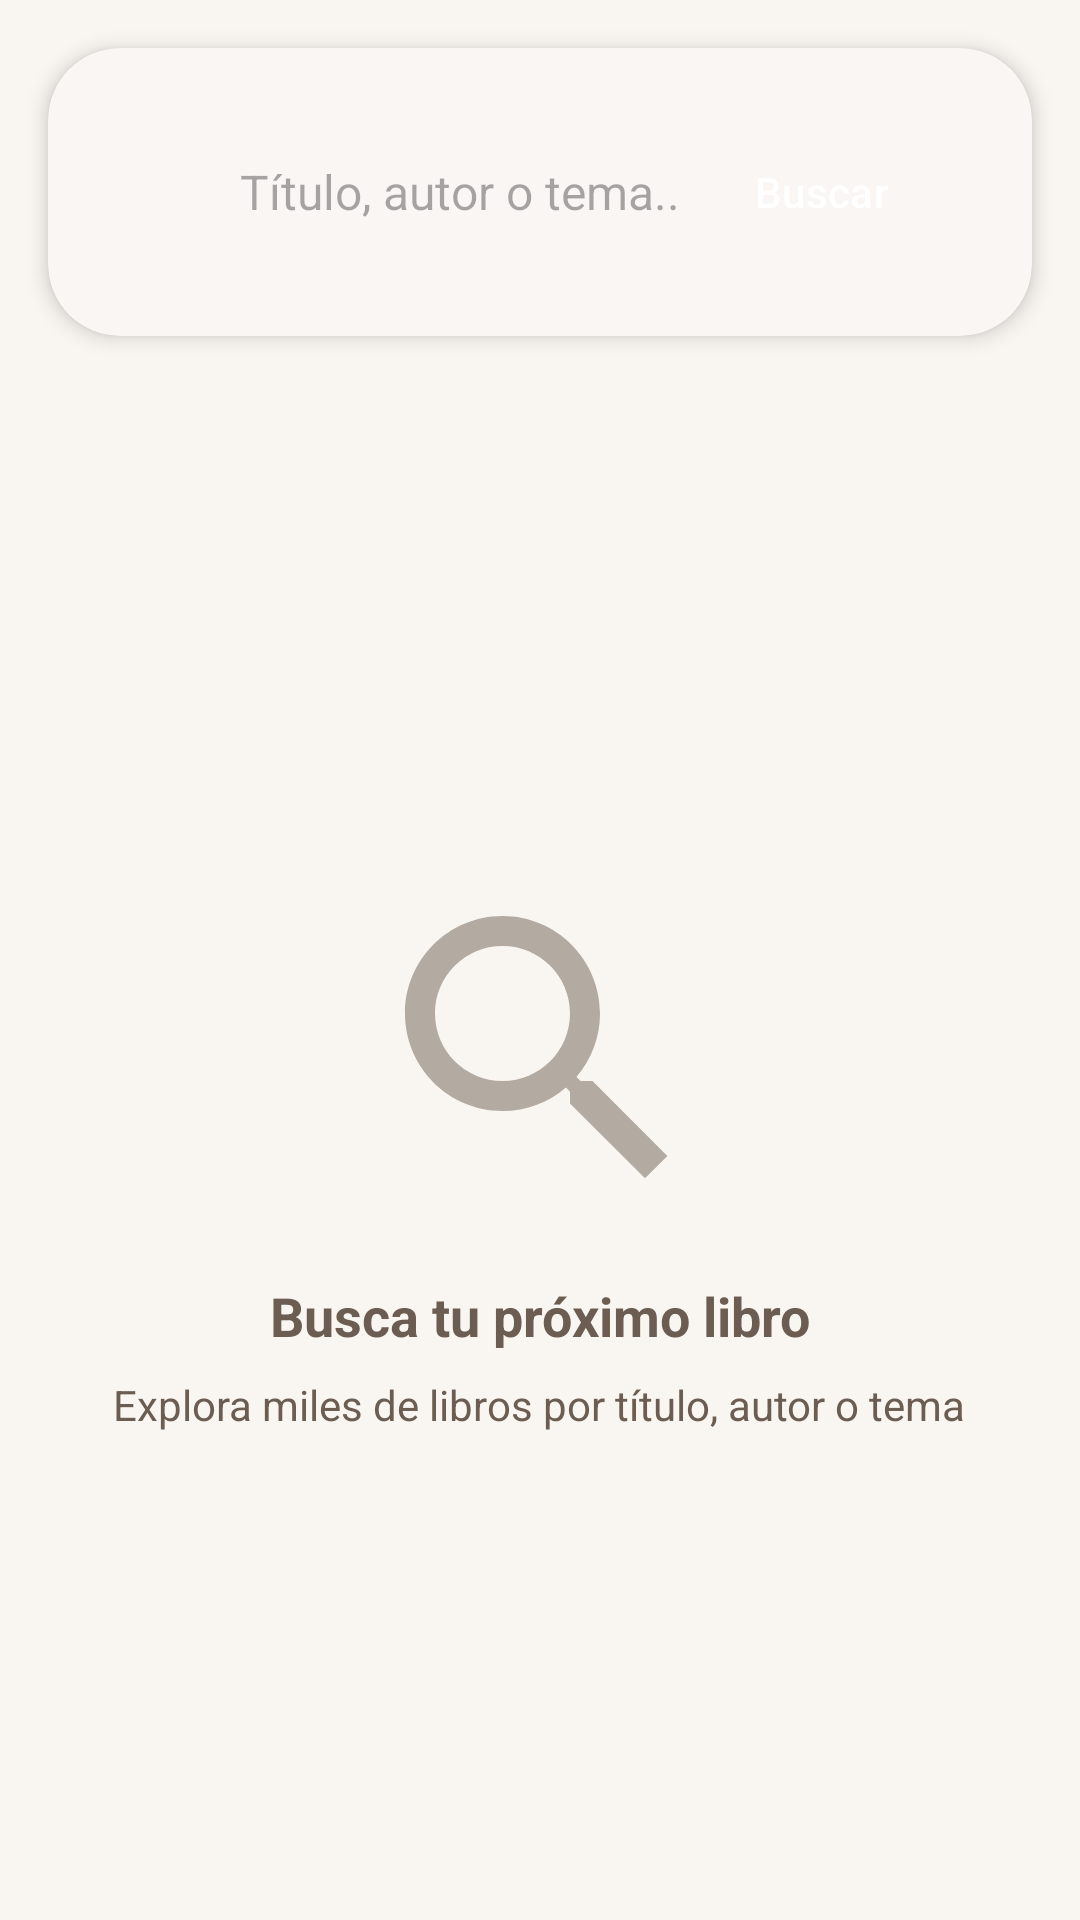

Icon bounding boxes for this 1080*1920 phone screenshot, format [left=x1, top=y1, right=x2, bottom=y2]:
search: [left=405, top=916, right=667, bottom=1178]
